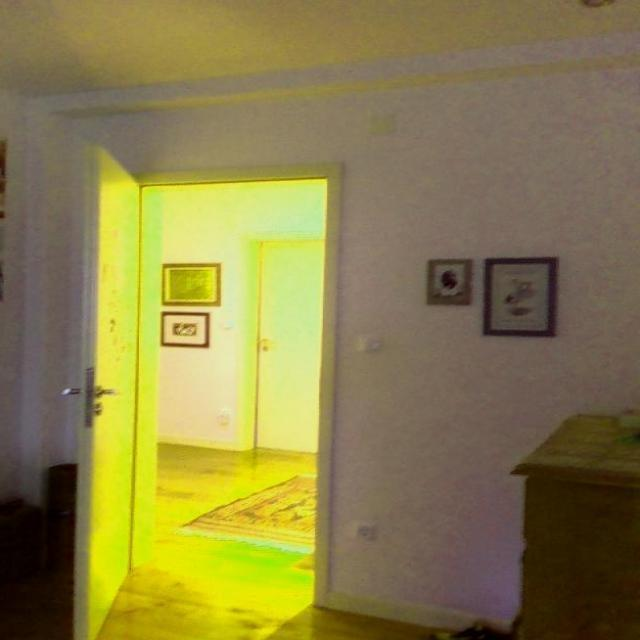door: (51, 140, 140, 640)
